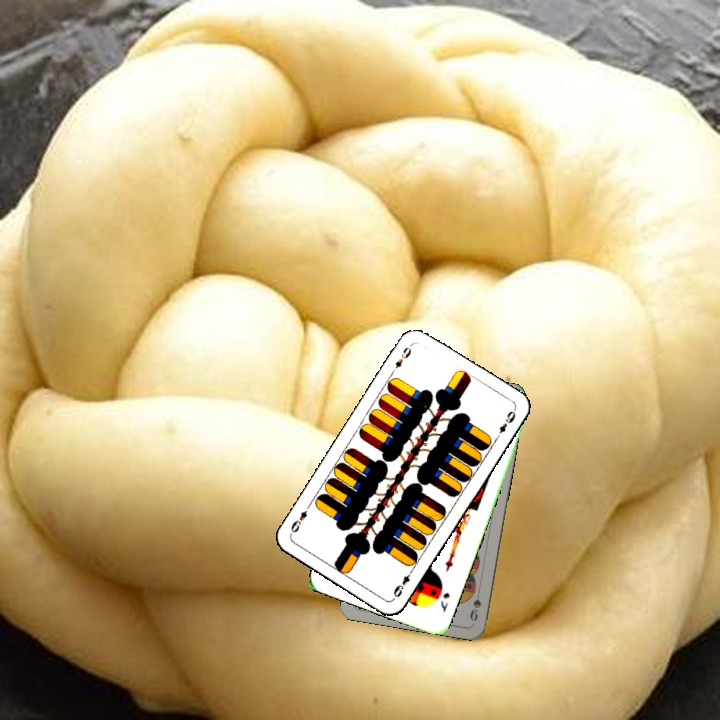E9: (387, 341, 414, 377), (389, 565, 416, 600)
S9: (466, 584, 484, 624)
SK: (437, 588, 452, 614)
